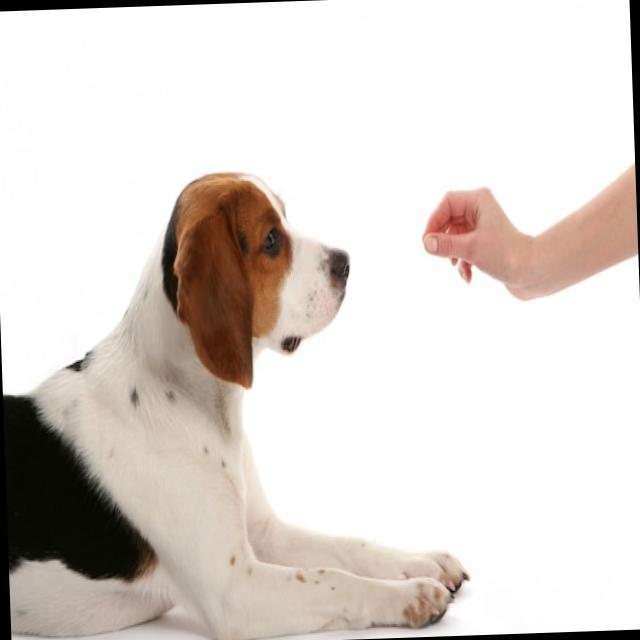Dog: (0, 160, 470, 640)
